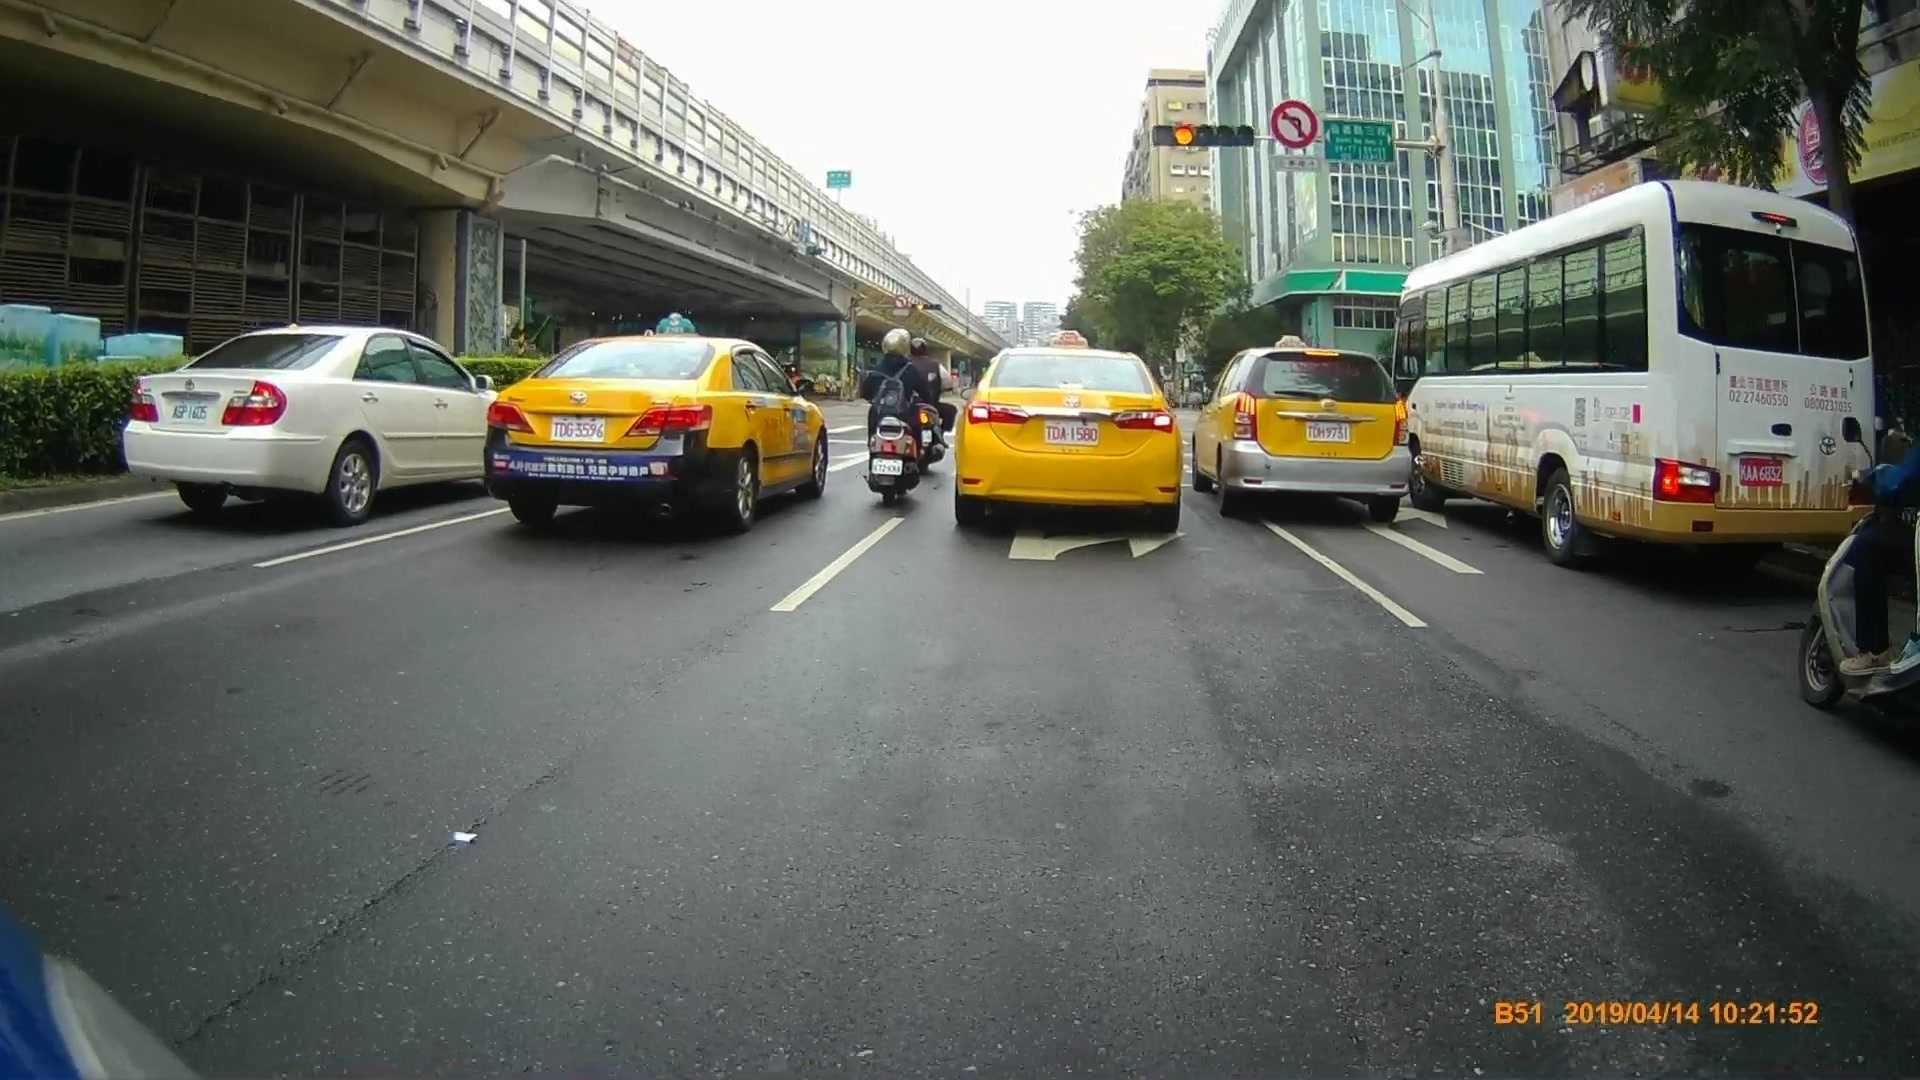License_plate: (1044, 415, 1104, 451), (1738, 456, 1793, 488), (548, 415, 607, 444), (1303, 420, 1355, 444), (171, 395, 213, 425)
